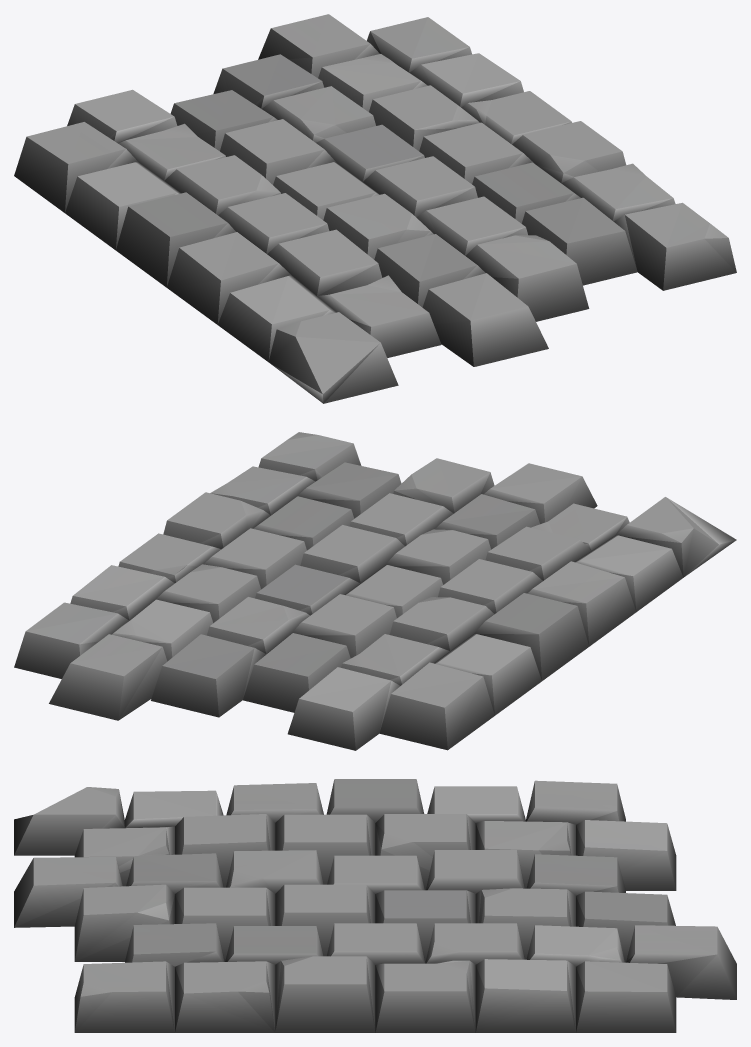
Rendered from cobbledstreet2_half.glb.
3 renders of one model, top to bottom at view 1: azimuth 30°, elevation 25°; view 2: azimuth 150°, elevation 25°; view 3: azimuth 270°, elevation 25°, orthographic. The views are drawn at different scales.
Parts seen in each view (by area): view 1: CobbledStreet2_Half_mesh1; view 2: CobbledStreet2_Half_mesh1; view 3: CobbledStreet2_Half_mesh1.
Boxes of the visible parts, <box> form: CobbledStreet2_Half_mesh1: <box>14,14,736,403</box>; CobbledStreet2_Half_mesh1: <box>14,432,736,750</box>; CobbledStreet2_Half_mesh1: <box>14,779,736,1032</box>.
Bounding box in the file's own units: 4.22 × 0.4211 × 6.04.
Materials: 1 (1 with a texture image).
